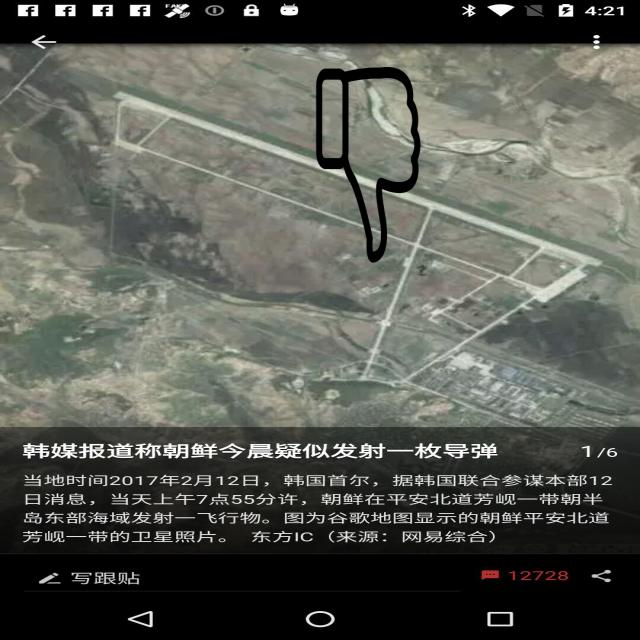obstruction: (315, 67, 422, 263)
